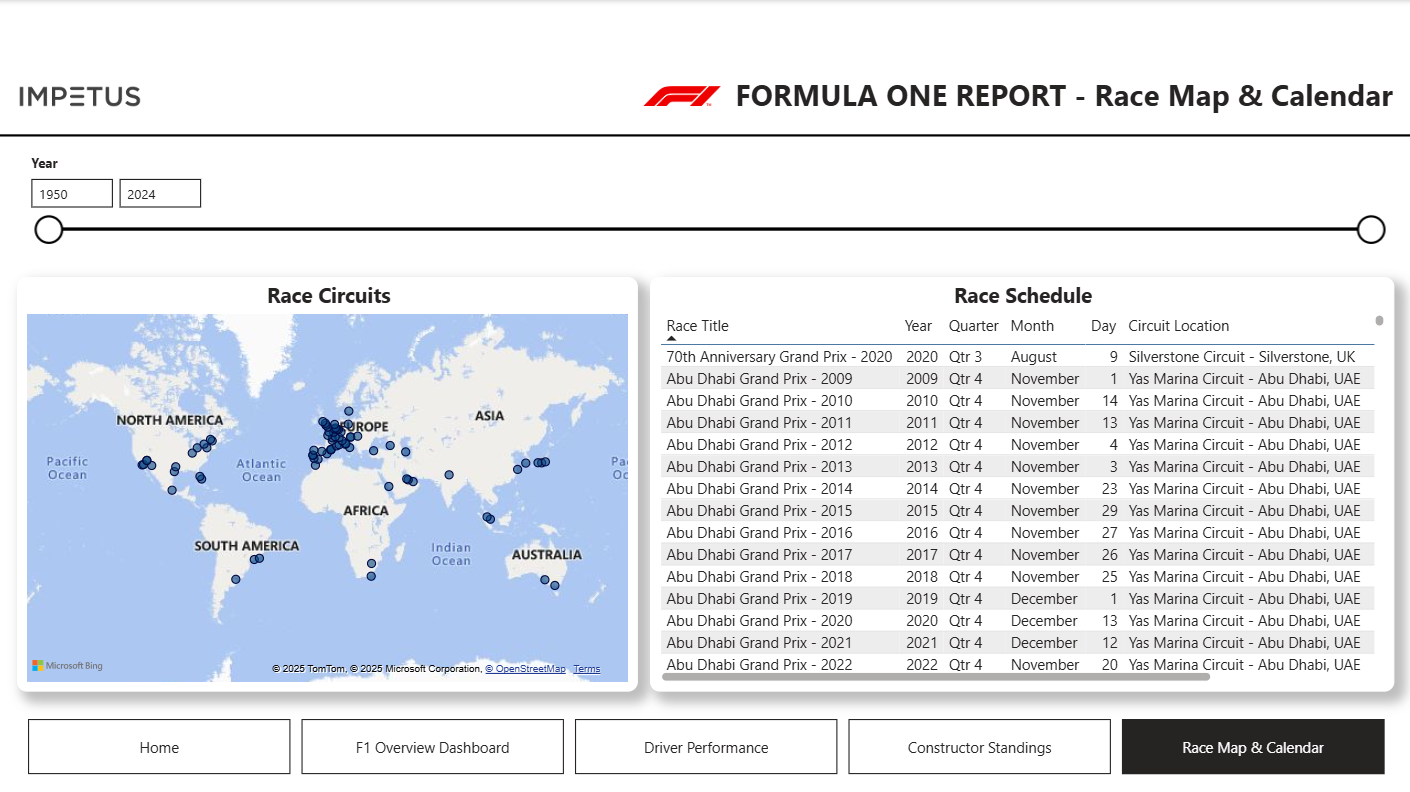

Layout of this report page (visuals, bound fields, positions):
{"tool":"powerbi","page":{"name":"Race Map & Calendar","canvas":[1280,720],"ordinal":4},"visuals":[{"type":"textbox","box":[662.5,62.5,617.5,55.3],"z":0,"group":"g2"},{"type":"map","title":"Race Circuits ","fields":{"Y":["circuits.lat"],"X":["circuits.lng"]},"box":[15.4,251.2,563.1,376.3],"z":0},{"type":"image","box":[578.9,57.5,79.8,60.8],"z":1000,"group":"g2"},{"type":"tableEx","title":"Race Schedule","fields":{"Values":["races.Race Title","races.date.Variation.Date Hierarchy.Year","races.date.Variation.Date Hierarchy.Quarter","races.date.Variation.Date Hierarchy.Month","races.date.Variation.Date Hierarchy.Day","circuits.Circuit Location","circuits.country"]},"box":[589.4,251.2,674.7,376.3],"z":1000},{"type":"slicer","fields":{"Values":["races.year"]},"box":[15.4,134.2,1248.7,107.9],"z":2000},{"type":"group","id":"g1","title":"Group 1","box":[0,57.5,1280.2,110],"z":3000},{"type":"image","box":[0,53.5,144.2,68],"z":4000},{"type":"pageNavigator","box":[25.1,651.8,1230.8,50.3],"z":5000},{"type":"actionButton","box":[0,57.1,144.2,68],"z":6000},{"type":"shape","box":[0,79.7,1280.2,87.8],"z":6000,"group":"g1"},{"type":"group","id":"g2","title":"Group 2","box":[578.9,57.5,701.1,60.8],"z":7000,"group":"g1"}]}

Visuals, with their boxes in screenshot pixels (x1, y1, x2, y2), scaled from the page's 1280x720 canvas onto the 1410x792 screenshot:
textbox: <region>730, 69, 1409, 130</region>
"Race Circuits " map: <region>17, 276, 637, 690</region>
image: <region>638, 63, 726, 130</region>
"Race Schedule" tableEx: <region>649, 276, 1392, 690</region>
slicer - races.year: <region>17, 148, 1392, 266</region>
"Group 1" group: <region>0, 63, 1409, 184</region>
image: <region>0, 59, 159, 134</region>
pageNavigator: <region>28, 717, 1383, 772</region>
actionButton: <region>0, 63, 159, 138</region>
shape: <region>0, 88, 1409, 184</region>
"Group 2" group: <region>638, 63, 1409, 130</region>
